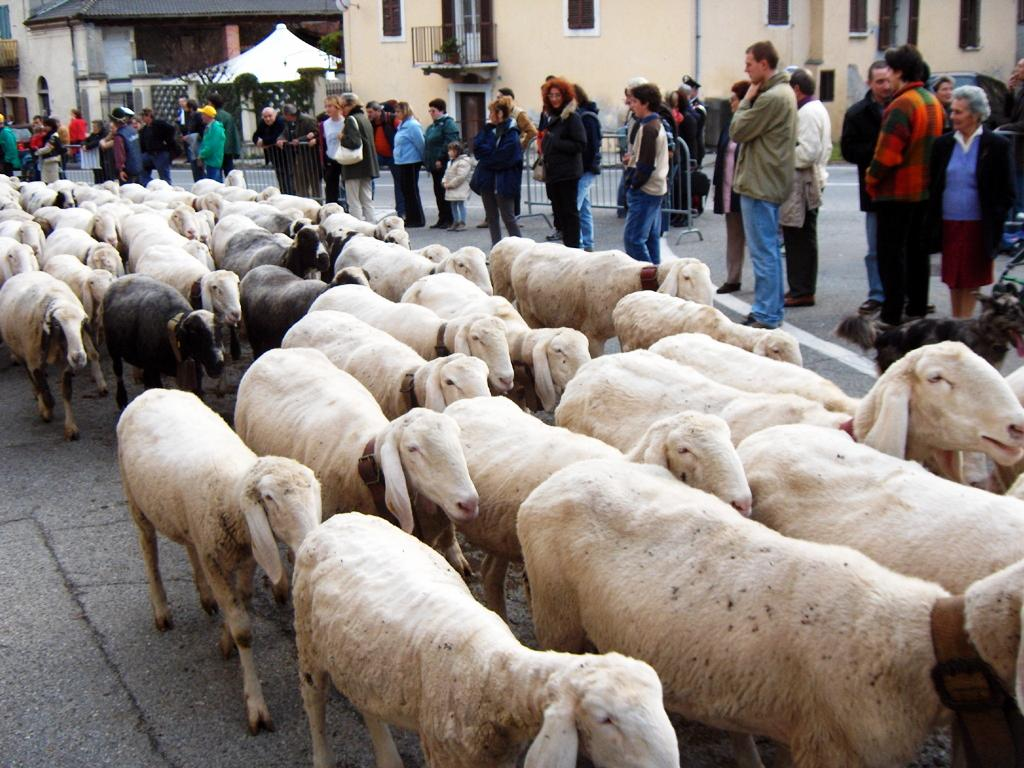Sheep: (526, 450, 1005, 764), (292, 526, 679, 757), (120, 389, 322, 733), (238, 348, 476, 589), (775, 330, 1024, 476), (569, 348, 856, 455), (291, 302, 518, 426), (515, 243, 675, 357), (0, 267, 104, 438), (106, 278, 229, 409), (615, 285, 801, 358), (238, 262, 338, 365), (330, 235, 450, 300), (216, 222, 330, 286), (509, 240, 581, 314)
